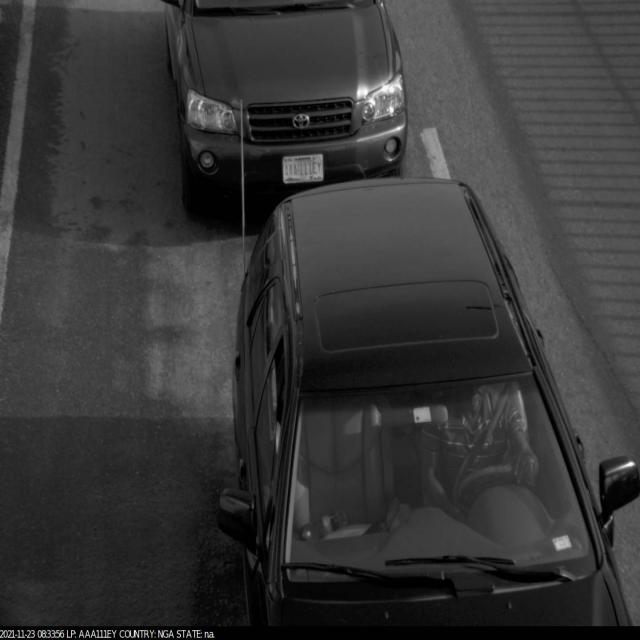windshield: (273, 367, 606, 620)
